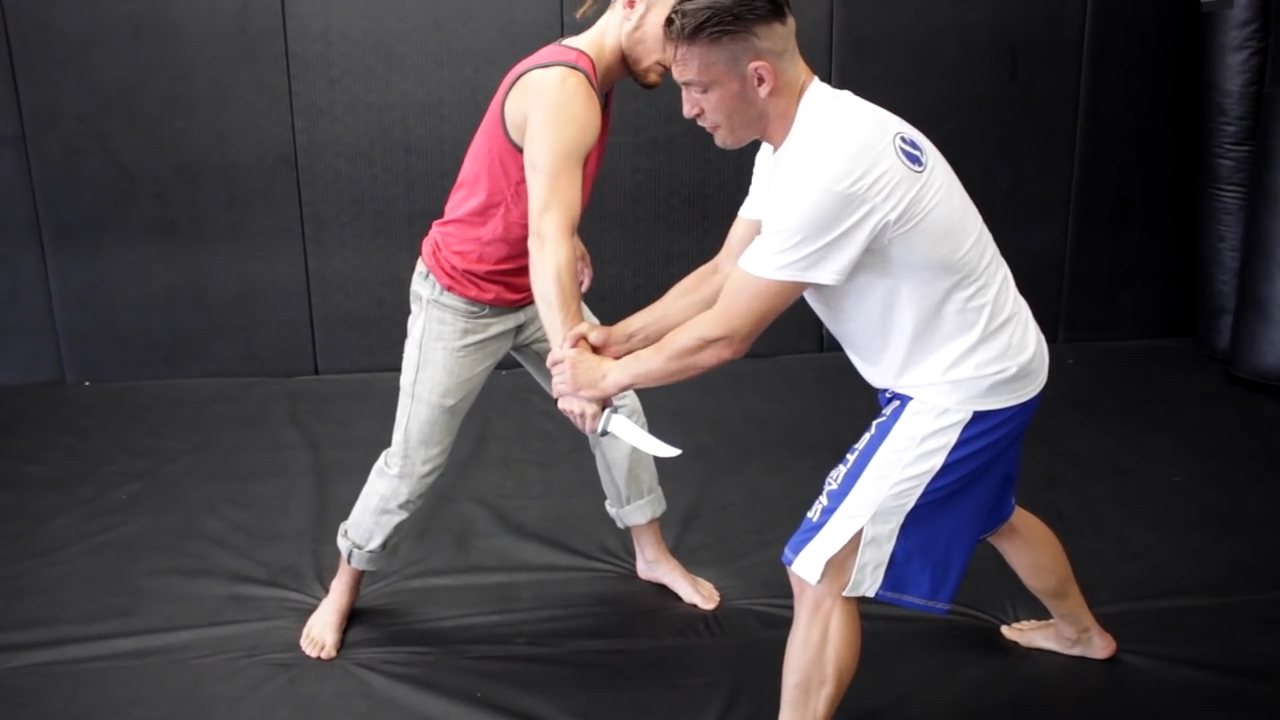knife: (547, 397, 691, 471)
